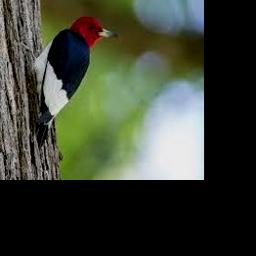Woodpecker: (21, 15, 118, 147)
